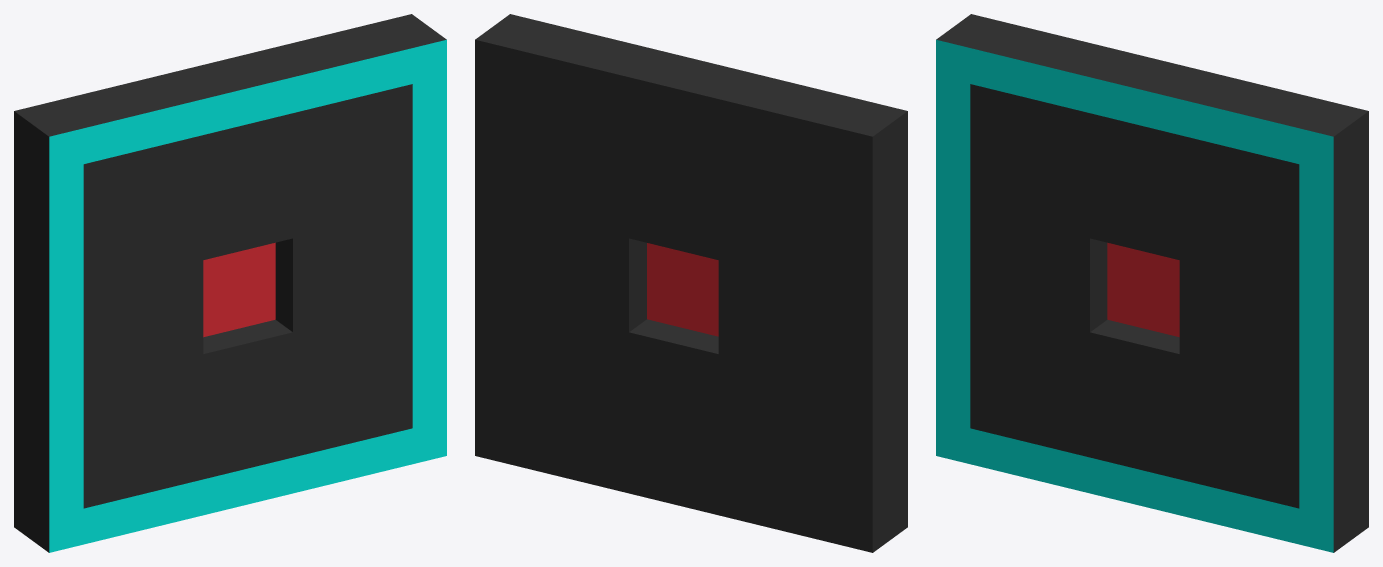
File: UndestroyedWall.fbx
3 renders of one model, left to right at view 1: azimuth 30°, elevation 25°; view 2: azimuth 150°, elevation 25°; view 3: azimuth 330°, elevation 25°, orthographic.
Visible parts, largest first — view 1: Wall, UnDestroyed; view 2: Wall, UnDestroyed; view 3: Wall, UnDestroyed.
Boxes of the visible parts, x1=… form: Wall: x1=14, y1=14, x2=446, y2=552; UnDestroyed: x1=203, y1=242, x2=275, y2=337; Wall: x1=475, y1=14, x2=907, y2=552; UnDestroyed: x1=647, y1=243, x2=718, y2=336; Wall: x1=936, y1=14, x2=1368, y2=552; UnDestroyed: x1=1107, y1=242, x2=1179, y2=337.
Size of the model in its own units: 60.98 by 60.98 by 9.32.
